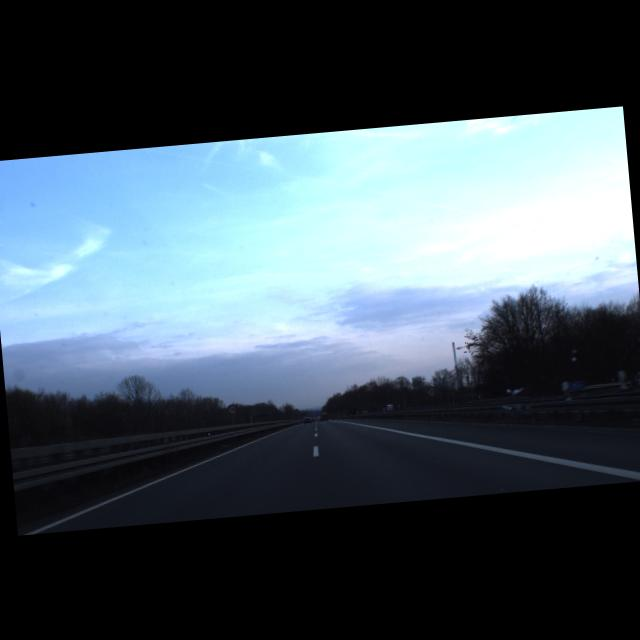prohibitory: (226, 402, 239, 416), (424, 384, 436, 396)
